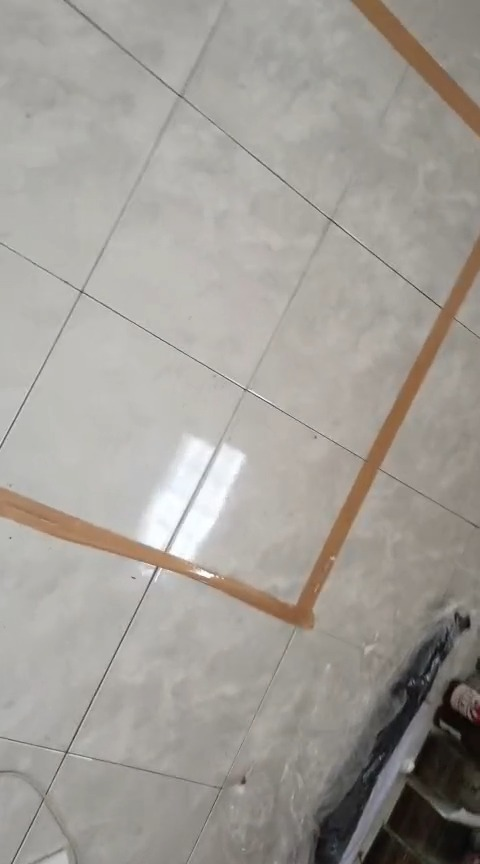floor marking: (0, 236, 479, 627), (352, 0, 479, 136)
